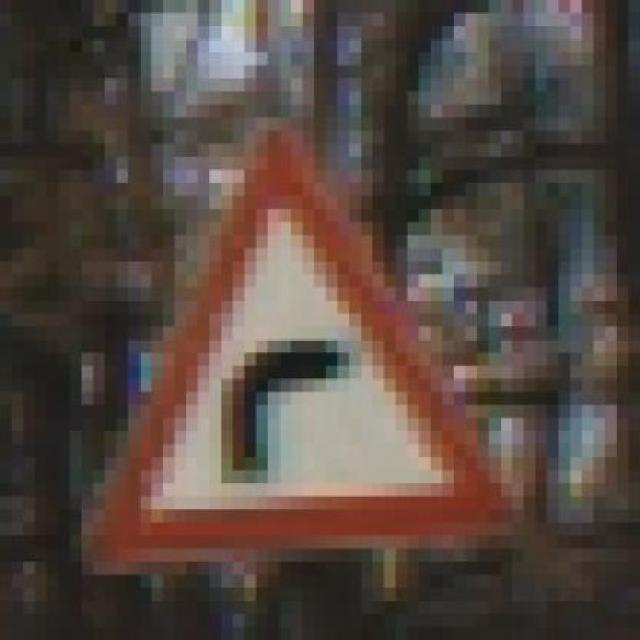Dangerous Rright Curve Ahead: (92, 118, 512, 574)
